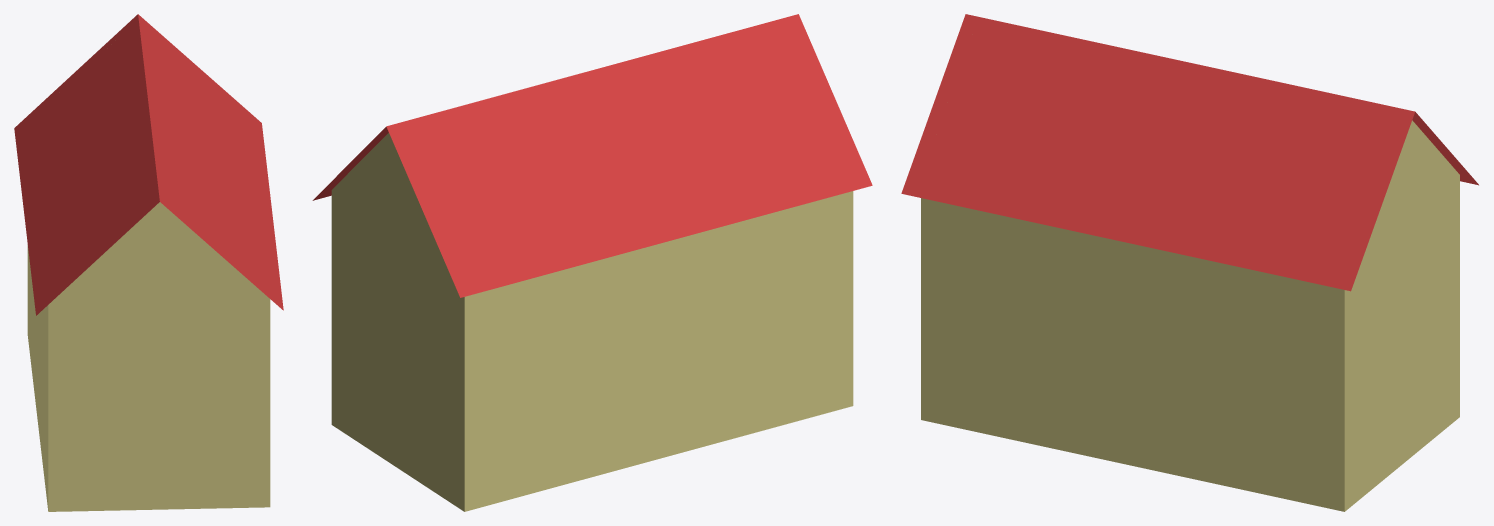
The picture shows the model from 3 angles, left to right: view 1: azimuth 30°, elevation 25°; view 2: azimuth 150°, elevation 25°; view 3: azimuth 270°, elevation 25°; orthographic projection. The views are drawn at different scales.
Visible parts, largest first — view 1: group_5, group_3, group_4; view 2: group_5, group_3, group_4; view 3: group_5, group_3, group_4.
Part boxes in pixels (bbox=[...]): group_5: bbox=[27, 202, 270, 511]; group_3: bbox=[14, 14, 283, 315]; group_4: bbox=[14, 14, 283, 310]; group_5: bbox=[331, 133, 853, 511]; group_3: bbox=[387, 14, 872, 297]; group_4: bbox=[312, 123, 558, 297]; group_5: bbox=[921, 120, 1459, 511]; group_3: bbox=[903, 17, 1478, 291]; group_4: bbox=[901, 14, 1475, 221].
Size of the model in its own units: 24.77 by 29.75 by 20.19.
